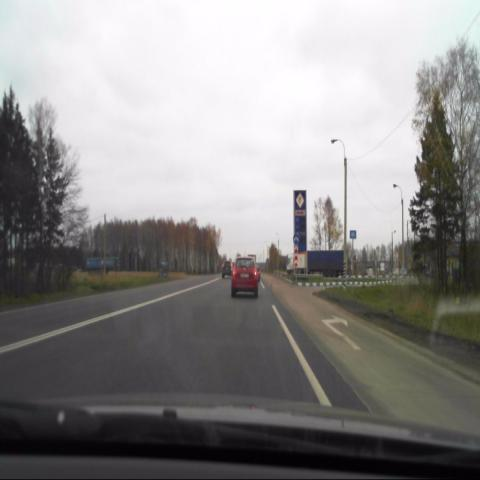4_2_3: (292, 233, 299, 244)
